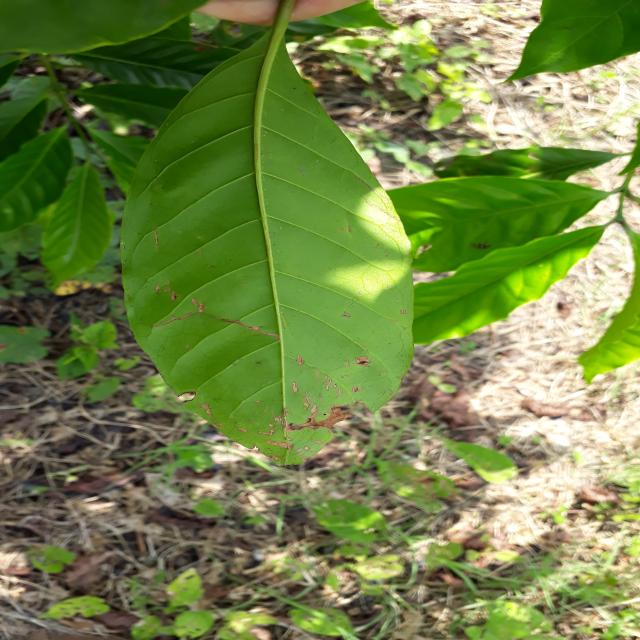Plaga-AranaRoja: (119, 0, 415, 469)
